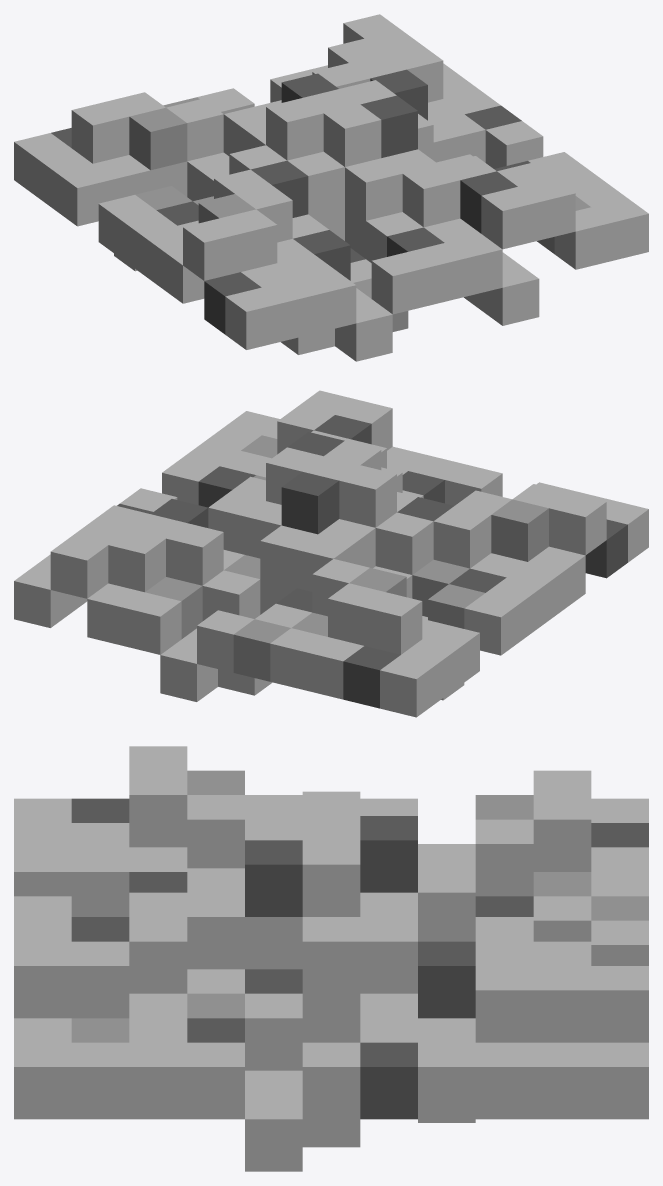
The model's file is Rag-0.obj.
3 views of the same model, one above another, from view 1: azimuth 30°, elevation 25°; view 2: azimuth 150°, elevation 25°; view 3: azimuth 270°, elevation 25° (orthographic). The views are drawn at different scales.
Size of the model in its own units: 1.1 by 0.4 by 1.1.
Materials: 1 (1 with a texture image).
